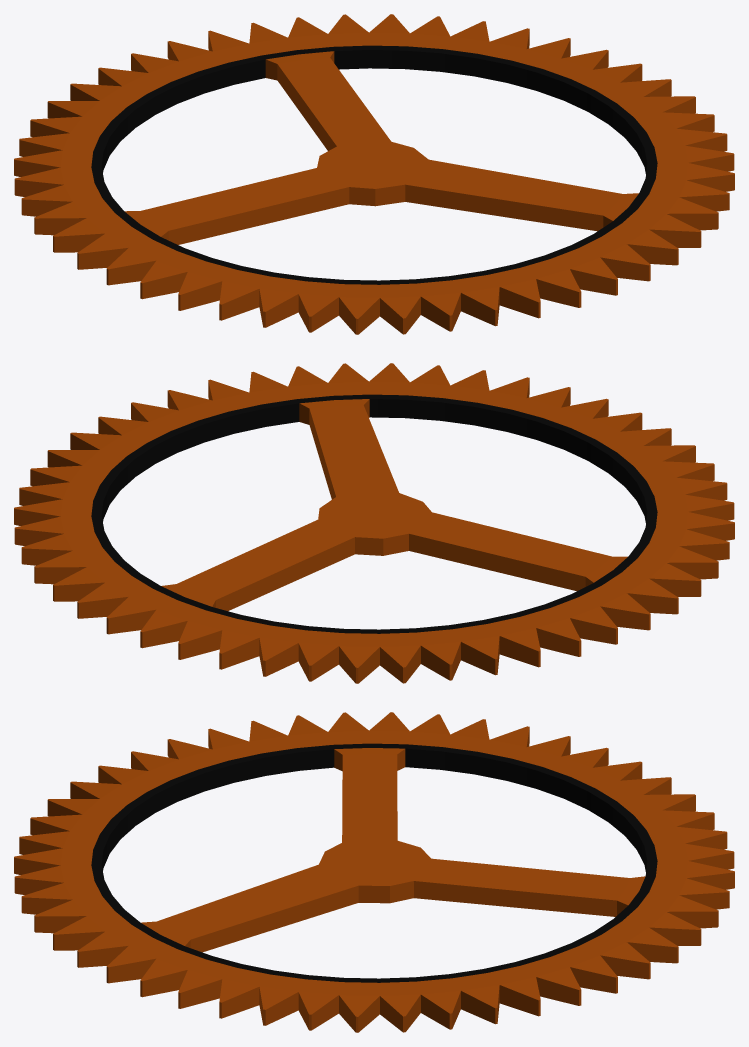
File: GearObj.FBX
The picture shows the model from 3 angles, top to bottom: view 1: azimuth 30°, elevation 25°; view 2: azimuth 150°, elevation 25°; view 3: azimuth 270°, elevation 25°; orthographic projection.
Visible parts, largest first — view 1: Tube004; view 2: Tube004; view 3: Tube004.
Part boxes in pixels (box(x1,y1,x2,y2)): Tube004: box(14, 14, 734, 334); Tube004: box(14, 363, 734, 683); Tube004: box(14, 712, 734, 1032).
Size of the model in its own units: 106 by 3.03 by 106.
